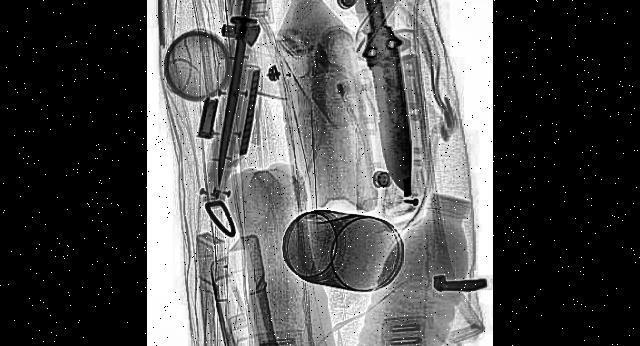Knife: (348, 0, 427, 217), (205, 0, 286, 190)
